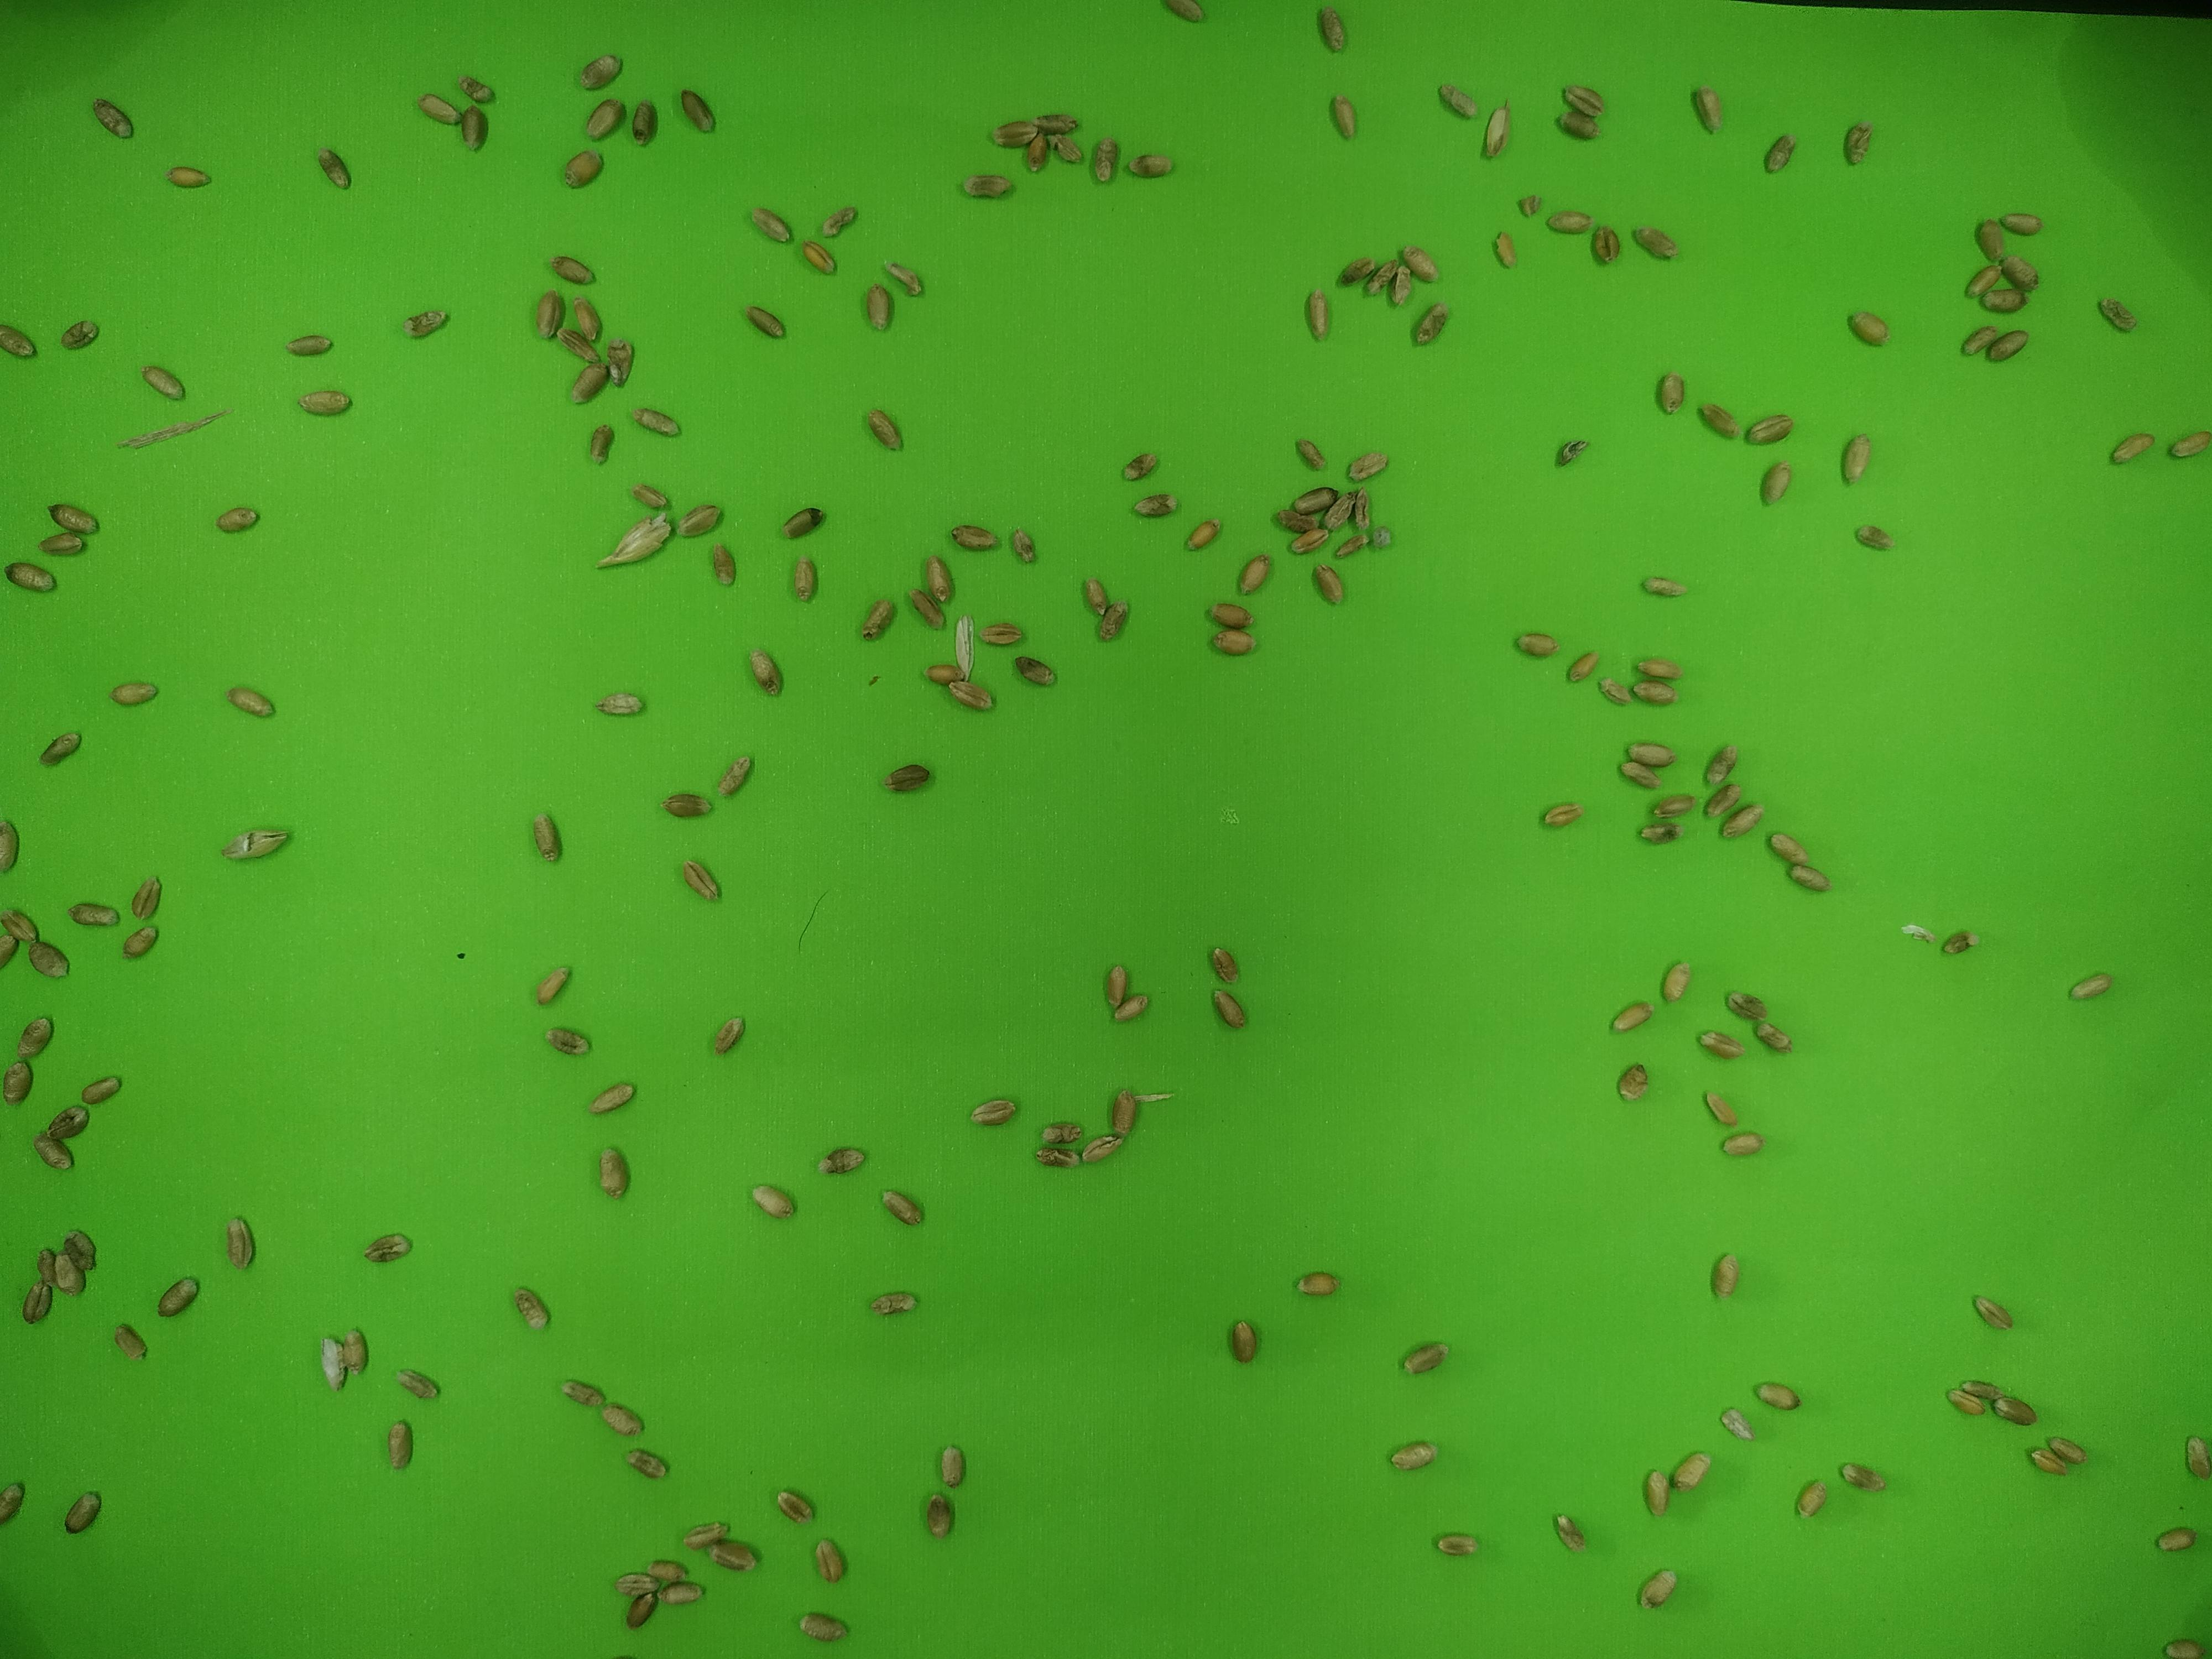bueno: (581, 97, 629, 142), (921, 1486, 958, 1543), (880, 1183, 927, 1229), (1088, 132, 1124, 189), (934, 1438, 969, 1495), (1, 559, 57, 594), (44, 1255, 92, 1296), (1717, 801, 1768, 838), (862, 404, 904, 451), (1756, 458, 1796, 507), (1790, 1472, 1828, 1523), (27, 938, 70, 983), (774, 1483, 816, 1529), (1, 1054, 36, 1108), (677, 85, 715, 135), (1225, 1316, 1261, 1369), (1838, 117, 1875, 168), (1551, 105, 1601, 142), (534, 284, 566, 342), (570, 359, 611, 405), (530, 806, 562, 865), (629, 406, 682, 440), (32, 1130, 75, 1172), (228, 1212, 258, 1275), (1234, 552, 1275, 597), (576, 52, 624, 90), (313, 146, 353, 192), (1011, 650, 1058, 690), (797, 1607, 847, 1644), (385, 1415, 416, 1473), (0, 906, 44, 947), (327, 1330, 372, 1370), (780, 502, 825, 541), (1542, 205, 1595, 239), (1303, 282, 1332, 343), (922, 547, 953, 604), (1653, 365, 1687, 418), (1670, 1451, 1712, 1493), (750, 1179, 793, 1220), (1399, 242, 1443, 283), (1314, 1, 1347, 56), (92, 99, 137, 139), (1209, 623, 1256, 661), (1109, 1081, 1139, 1139), (58, 1229, 101, 1270), (128, 873, 163, 925), (1846, 309, 1891, 348), (414, 88, 459, 127), (862, 282, 896, 333), (712, 1537, 761, 1573), (570, 294, 605, 343), (1631, 222, 1678, 259), (1635, 1569, 1678, 1609), (1704, 778, 1747, 818), (156, 1276, 200, 1316), (1744, 412, 1796, 446), (161, 160, 211, 195), (1717, 1126, 1766, 1161), (1980, 284, 2033, 316), (1766, 830, 1812, 867), (64, 1490, 101, 1536), (1989, 1394, 2041, 1427), (225, 685, 274, 720), (138, 363, 184, 400), (2049, 1433, 2092, 1473), (562, 147, 605, 186), (1311, 562, 1347, 609), (1942, 1380, 1986, 1420), (627, 97, 659, 150), (863, 593, 895, 646), (1512, 626, 1560, 661), (812, 1535, 846, 1585), (1389, 1438, 1439, 1472), (512, 1288, 551, 1332), (1641, 1465, 1673, 1519), (749, 646, 785, 693), (1998, 252, 2043, 289), (112, 1319, 149, 1365), (598, 1401, 644, 1438), (975, 617, 1025, 650), (1968, 1296, 2015, 1332), (790, 549, 820, 605), (679, 500, 723, 538), (598, 1145, 629, 1199), (659, 789, 712, 820), (817, 1144, 868, 1177), (1762, 129, 1797, 176), (1698, 400, 1739, 440), (795, 236, 835, 277), (1342, 448, 1391, 482), (1434, 80, 1480, 116), (20, 1279, 55, 1327), (2180, 1429, 2211, 1483), (959, 170, 1013, 200), (1612, 1062, 1650, 1105), (1293, 1266, 1342, 1300), (556, 1377, 607, 1409), (15, 1015, 54, 1057), (948, 521, 998, 554), (457, 102, 489, 152), (1398, 1339, 1448, 1372), (680, 1519, 731, 1551), (2156, 1521, 2199, 1558), (747, 208, 792, 244), (0, 321, 38, 363), (1692, 82, 1723, 133), (283, 330, 333, 361), (1720, 989, 1770, 1021), (1101, 959, 1132, 1010), (946, 681, 997, 712), (1562, 649, 1602, 688), (1203, 598, 1255, 629), (595, 688, 647, 718), (680, 855, 714, 901), (1588, 222, 1623, 268), (1840, 429, 1870, 483), (707, 542, 739, 591), (583, 419, 614, 468), (1536, 799, 1586, 831), (1563, 78, 1604, 116), (119, 923, 160, 961), (296, 388, 348, 418), (1659, 958, 1692, 1006), (1488, 226, 1521, 273), (1695, 1028, 1743, 1061), (2066, 971, 2115, 1002), (1338, 252, 1382, 288), (1328, 89, 1357, 143), (1706, 741, 1739, 787), (906, 587, 947, 624), (1629, 675, 1677, 707), (213, 502, 258, 535), (587, 1084, 635, 1116), (623, 1448, 672, 1479), (1750, 1019, 1794, 1053), (531, 966, 570, 1005), (969, 1095, 1020, 1125), (393, 1369, 441, 1400), (1838, 1461, 1884, 1494), (2108, 431, 2154, 464), (1023, 121, 1050, 178), (1121, 150, 1173, 179), (1976, 215, 2007, 264), (2096, 296, 2139, 332), (621, 1592, 656, 1634), (2164, 430, 2212, 461), (549, 253, 596, 285), (743, 303, 783, 341), (543, 1025, 592, 1055), (1033, 1118, 1085, 1147), (1985, 328, 2031, 361), (989, 117, 1034, 149), (1965, 261, 2004, 299), (1960, 322, 2000, 359), (1289, 520, 1330, 556), (40, 526, 85, 559), (1755, 1379, 1799, 1412), (1554, 1511, 1588, 1554), (1207, 942, 1239, 987), (1211, 989, 1246, 1030), (627, 479, 669, 514), (1710, 1250, 1740, 1298), (1625, 739, 1676, 768), (1700, 1090, 1738, 1128), (1433, 1529, 1483, 1558), (40, 729, 81, 765), (1608, 1001, 1652, 1032), (1293, 483, 1337, 515), (55, 320, 101, 351), (1119, 449, 1160, 483), (1595, 674, 1636, 708), (1109, 990, 1151, 1024), (1851, 521, 1897, 551), (1782, 866, 1835, 892), (1365, 257, 1401, 296), (67, 902, 118, 930), (1636, 572, 1684, 601), (1996, 210, 2044, 239), (885, 761, 929, 792), (1079, 1132, 1120, 1165), (1635, 651, 1681, 681), (110, 677, 154, 708), (49, 503, 97, 531), (1649, 791, 1697, 820), (1291, 435, 1327, 473), (1185, 515, 1222, 551), (556, 329, 597, 361), (1637, 817, 1681, 847), (1161, 0, 1210, 27), (1032, 111, 1079, 138), (713, 1013, 743, 1056), (2161, 1633, 2211, 1659), (608, 1572, 661, 1597), (1081, 574, 1110, 618), (659, 1580, 705, 1608), (80, 1077, 122, 1107), (1330, 530, 1370, 561), (2031, 1446, 2071, 1477), (926, 659, 973, 685), (1324, 492, 1355, 530), (643, 1556, 688, 1583), (1621, 762, 1666, 789), (1274, 506, 1312, 538), (1551, 438, 1589, 468), (1941, 929, 1979, 958), (1960, 1380, 2007, 1403), (33, 1246, 58, 1284), (734, 797, 736, 799)
danado: (881, 254, 925, 300), (815, 201, 859, 241), (400, 306, 448, 343), (362, 1230, 412, 1264), (601, 336, 639, 380), (1030, 1142, 1080, 1175), (47, 1105, 88, 1144), (718, 754, 754, 799), (1410, 304, 1449, 345), (1099, 597, 1131, 644), (864, 1288, 917, 1317), (1715, 1405, 1754, 1443), (1133, 491, 1179, 523), (1004, 527, 1041, 566), (455, 72, 495, 105), (1900, 917, 1938, 947), (1050, 134, 1087, 164), (1354, 486, 1376, 533), (1366, 521, 1399, 551)
impureza: (117, 413, 241, 455), (593, 513, 671, 570), (223, 828, 293, 865), (1480, 96, 1514, 161), (314, 1333, 349, 1392), (952, 612, 979, 682), (1385, 263, 1413, 312), (1129, 1087, 1180, 1106), (1516, 189, 1544, 221)
